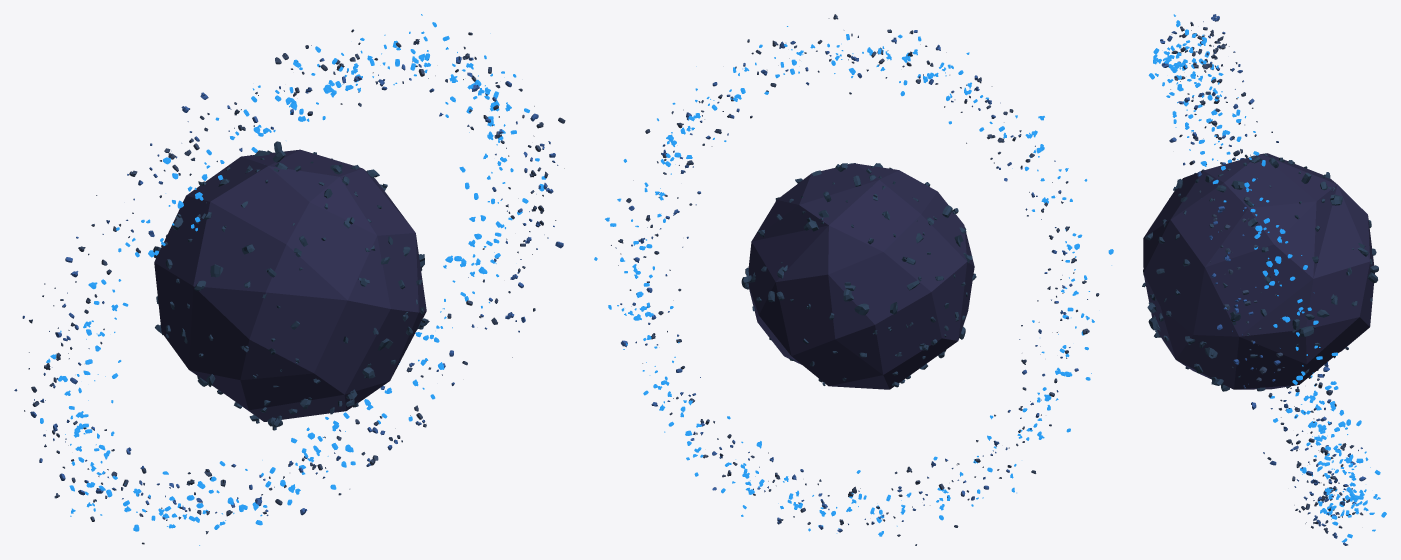
Rendered from Planet_rings.glb.
3 renders of one model, left to right at view 1: azimuth 30°, elevation 25°; view 2: azimuth 150°, elevation 25°; view 3: azimuth 270°, elevation 25°, orthographic. The views are drawn at different scales.
Visible parts, largest first — view 1: Object_6; view 2: Object_6; view 3: Object_6.
Boxes of the visible parts, box(x1,y1,x2,y2) form: Object_6: box(14, 14, 565, 545); Object_6: box(594, 14, 1113, 545); Object_6: box(1142, 14, 1386, 545).
Size of the model in its own units: 193 by 182 by 83.66.
